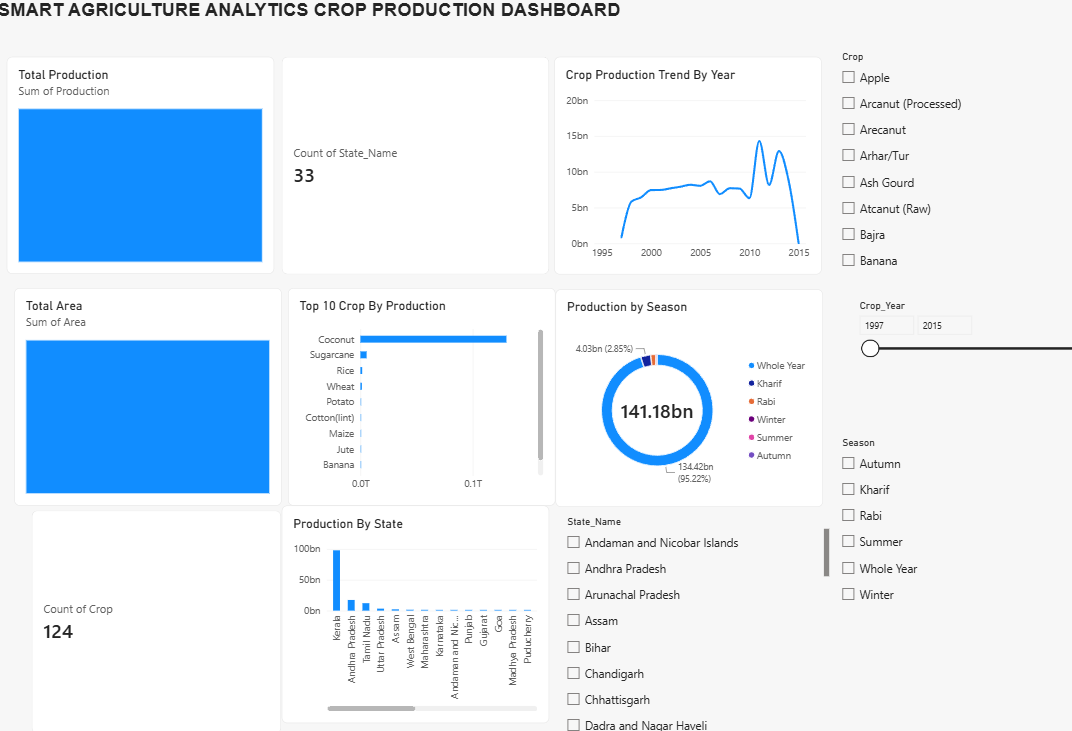

The page's visual inventory and layout, read from the dashboard file:
{"tool":"powerbi","page":{"name":"Page 1","canvas":[1920,1080],"ordinal":0},"visuals":[{"type":"treemap","title":"Total  Production","fields":{"Values":["Sum(crop_production.Production)"]},"box":[12.2,100,387.3,314.5],"z":0},{"type":"treemap","title":"Total Area","fields":{"Values":["Sum(crop_production.Area)"]},"box":[23.3,434.4,387,315],"z":1000},{"type":"cardVisual","title":"Number Of State","fields":{"Data":["Count(crop_production.State_Name)"]},"box":[410,100,387,315],"z":2000},{"type":"clusteredBarChart","title":"Top 10 Crop By Production","fields":{"Category":["crop_production.Crop"],"Y":["Sum(crop_production.Production)"]},"box":[420,434.4,387,315],"z":3000},{"type":"clusteredColumnChart","title":" Production By State","fields":{"Category":["crop_production.State_Name"],"Y":["Sum(crop_production.Production)"]},"box":[411.1,750,387,315],"z":4000},{"type":"lineChart","title":"Crop Production Trend By Year","fields":{"Category":["crop_production.Crop_Year"],"Y":["Sum(crop_production.Production)"]},"box":[805.6,98.9,387,315],"z":5000},{"type":"donutChart","title":"Production by Season","fields":{"Category":["crop_production.Season"],"Y":["Sum(crop_production.Production)"]},"box":[806.7,435.6,387,315],"z":6000},{"type":"slicer","fields":{"Values":["crop_production.State_Name"]},"box":[816.7,764.4,387,315],"z":7000},{"type":"slicer","fields":{"Values":["crop_production.Crop"]},"box":[1214.4,91.1,387,315],"z":8000},{"type":"slicer","fields":{"Values":["crop_production.Crop_Year"]},"box":[1238.9,450,387,315],"z":9000},{"type":"slicer","fields":{"Values":["crop_production.Season"]},"box":[1214,650,387,315],"z":10000},{"type":"textbox","box":[0,16.7,1920,38.9],"z":11000},{"type":"cardVisual","fields":{"Data":["Count(crop_production.Crop)"]},"box":[48.9,756.7,361.1,323.3],"z":12000}]}

Visuals, with their boxes on the page's 1920x1080 design canvas (x1, y1, x2, y2). These are canvas units, not pixel positions in the 1072x731 screenshot, which may show the page scaled, cropped or inside an application window:
"Total  Production" treemap: 12 100 400 414
"Total Area" treemap: 23 434 410 749
"Number Of State" cardVisual: 410 100 797 415
"Top 10 Crop By Production" clusteredBarChart: 420 434 807 749
" Production By State" clusteredColumnChart: 411 750 798 1065
"Crop Production Trend By Year" lineChart: 806 99 1193 414
"Production by Season" donutChart: 807 436 1194 751
slicer - crop_production.State_Name: 817 764 1204 1079
slicer - crop_production.Crop: 1214 91 1601 406
slicer - crop_production.Crop_Year: 1239 450 1626 765
slicer - crop_production.Season: 1214 650 1601 965
textbox: 0 17 1920 56
cardVisual - Count(crop_production.Crop): 49 757 410 1080
